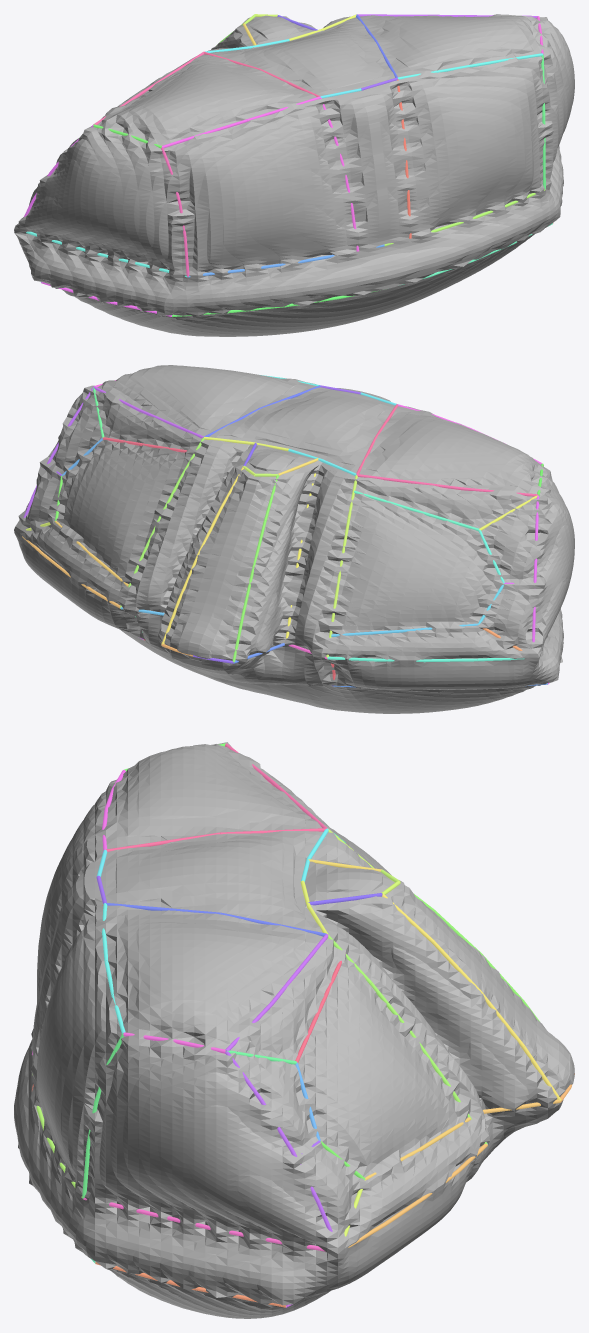
File: ils_speaker.gltf
3 renders of one model, top to bottom at view 1: azimuth 30°, elevation 25°; view 2: azimuth 150°, elevation 25°; view 3: azimuth 270°, elevation 25°, orthographic. The views are drawn at different scales.
Bounding box in the file's own units: 0.8241 × 0.4038 × 0.5388.
